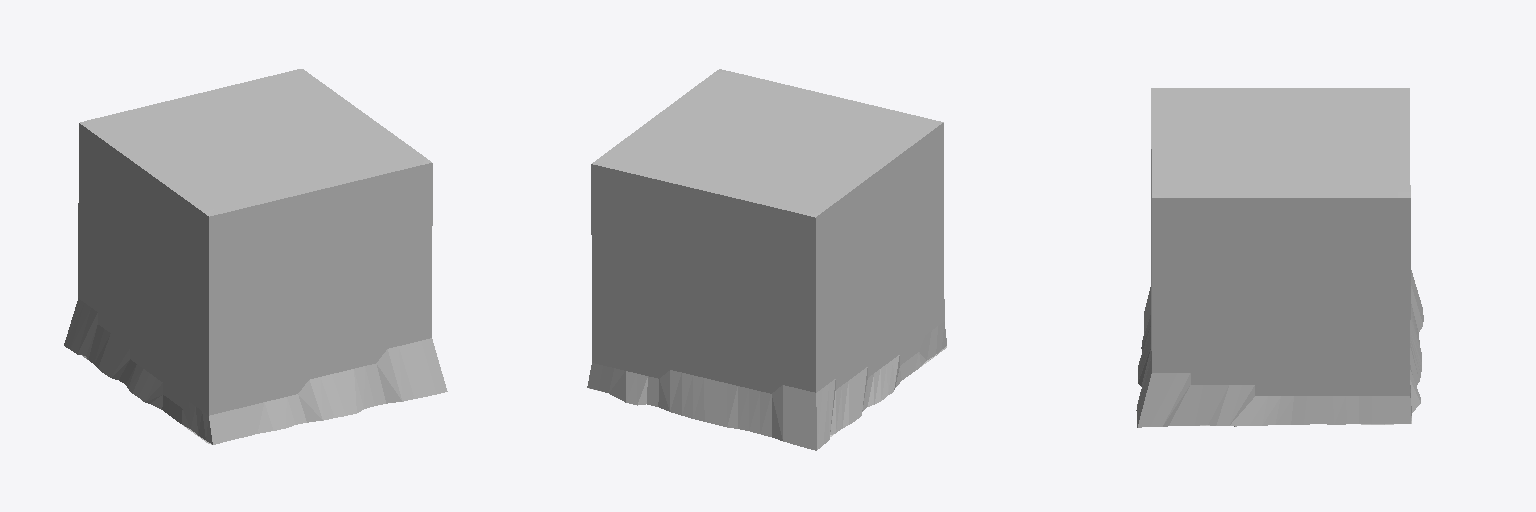
Rendered from mod0157.obj.
The picture shows the model from 3 angles: view 1: azimuth 30°, elevation 25°; view 2: azimuth 150°, elevation 25°; view 3: azimuth 270°, elevation 25°; orthographic projection.
Parts seen in each view (by area): view 1: Box001; view 2: Box001; view 3: Box001.
Part boxes in pixels (x1,y1,x2,y2): Box001: (64,69,447,444); Box001: (587,69,946,450); Box001: (1136,88,1423,427).
Bounding box in the file's own units: 0.5799 × 0.5224 × 0.5979.